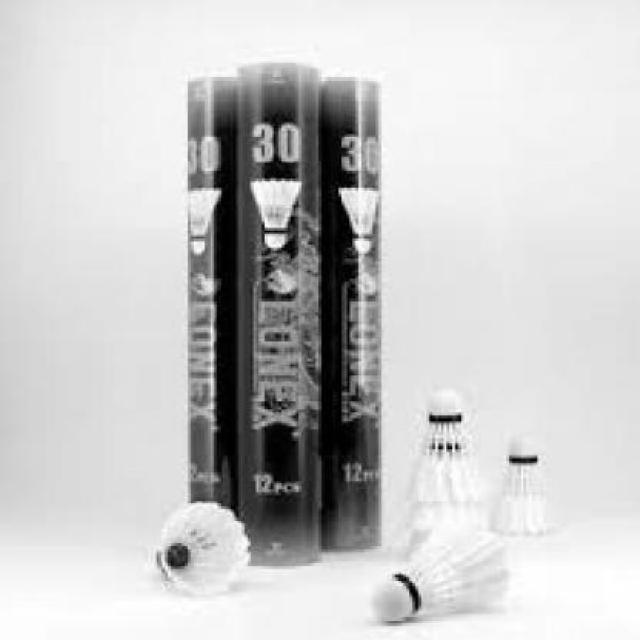Shuttlecock: (372, 512, 511, 628)
